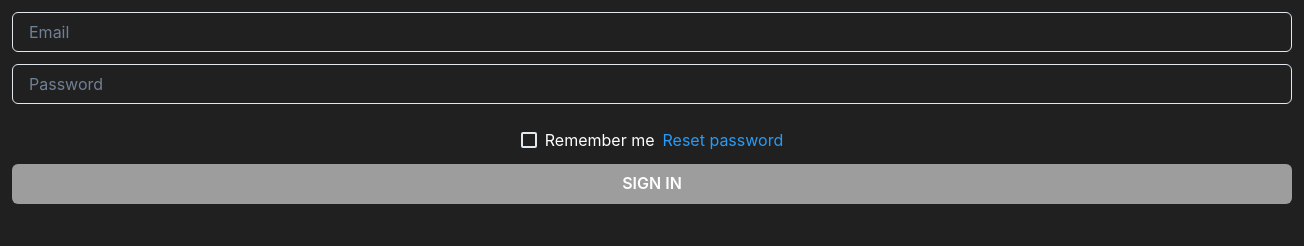
it: login form › checks if error messages displayed when username input field is empty
Step 1. Type "testPassword" into the password field with placeholder "Password" → [652, 84], box [12,64,1292,104]
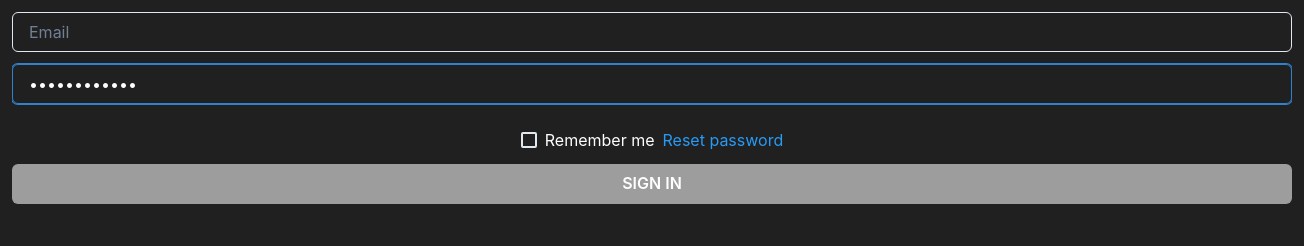
Step 2. Click the button "Sign in" → [652, 184], box [12,164,1292,204]
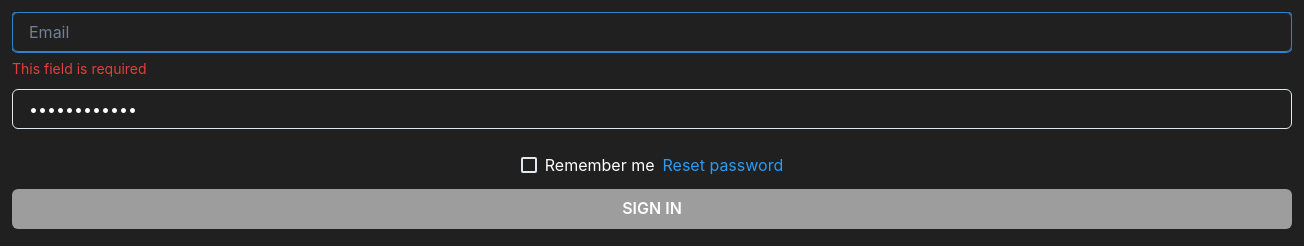
expect the text "This field is required" is shown: met, box [12,60,147,77]
